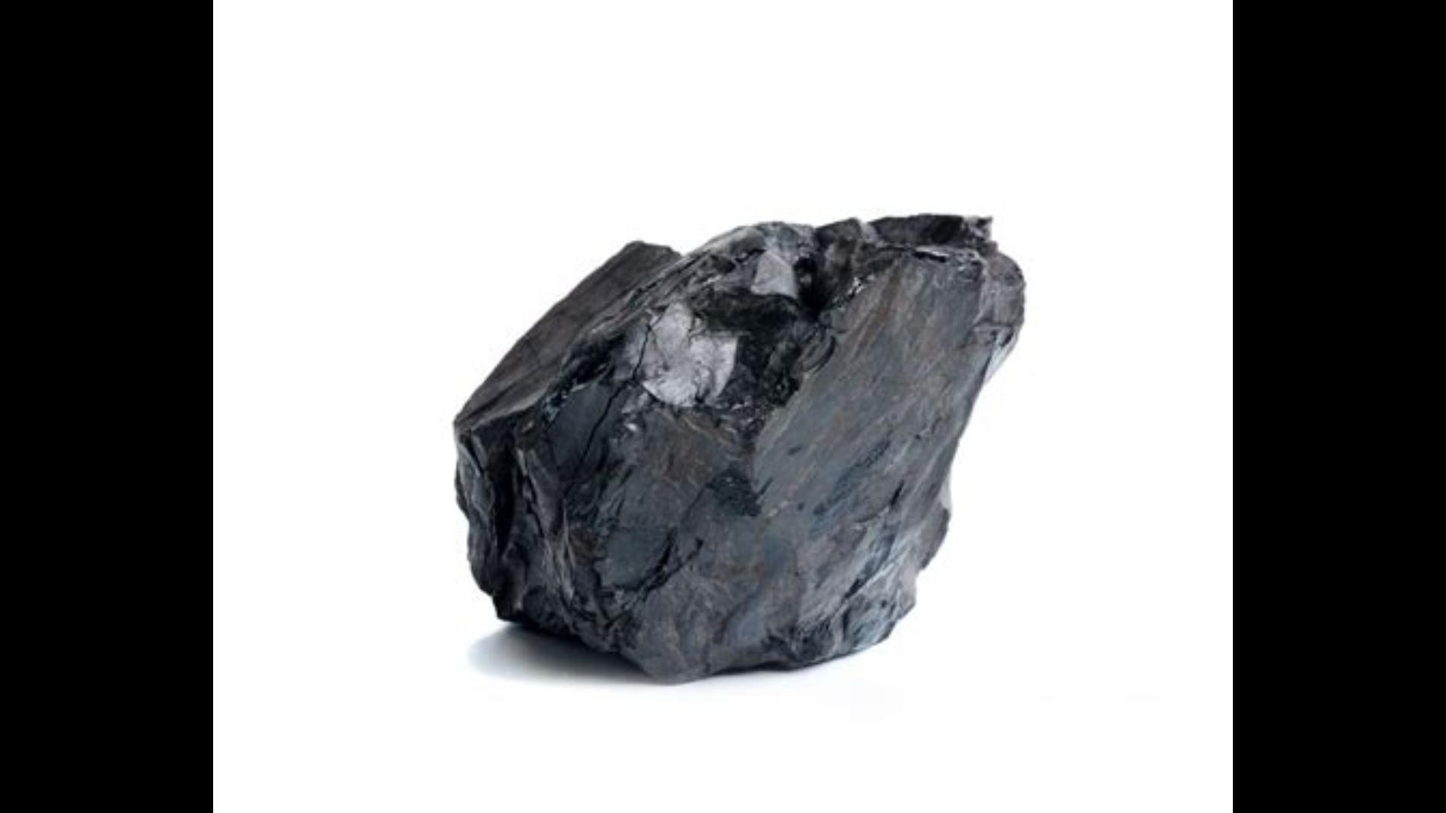rock: (456, 222, 1022, 678)
